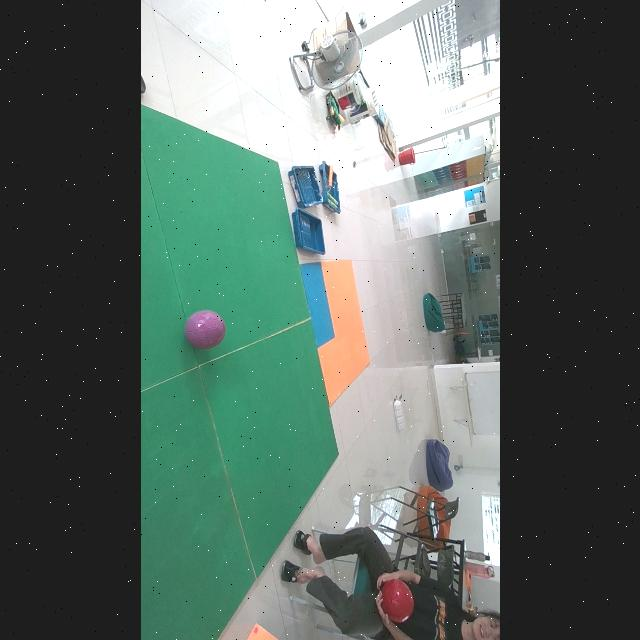P: (185, 311, 225, 349)
R: (382, 579, 414, 622)
